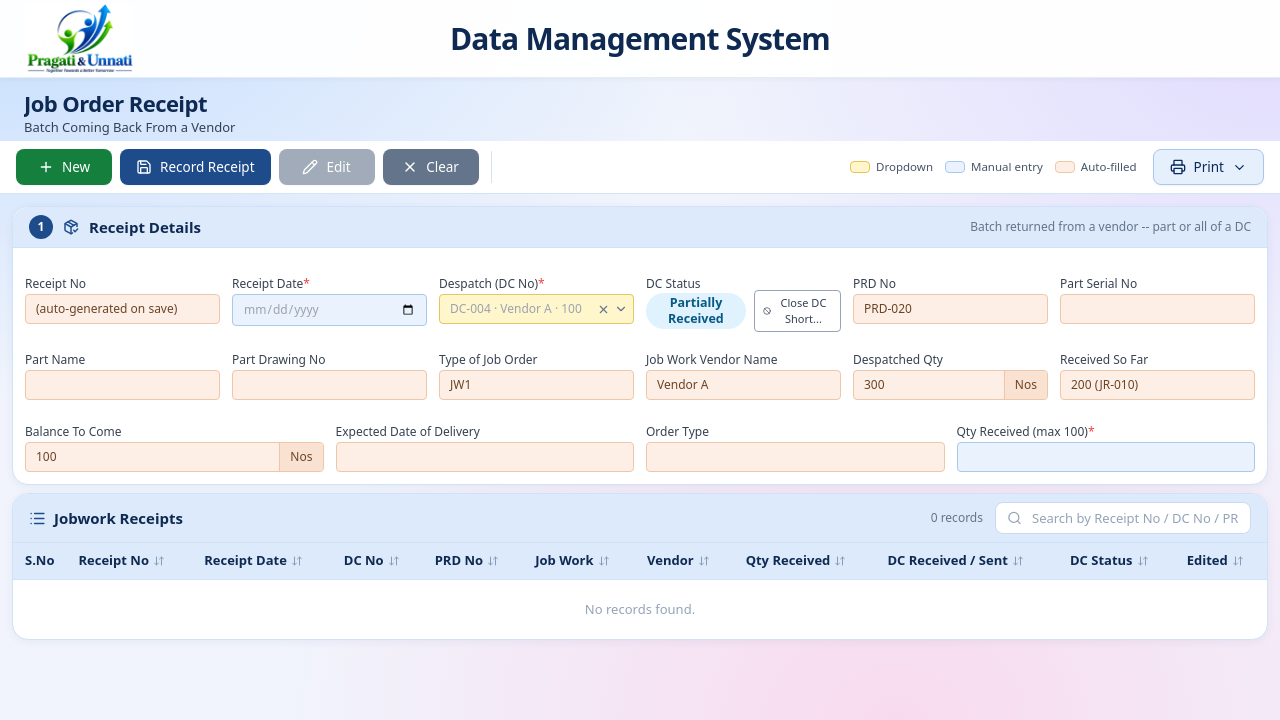
Scenario: Job Work Receipt -- Close DC Short button › reason required; confirm closes the DC short
expect the text "Partially Received" is shown: met, box left=646, top=293, right=746, bottom=329
Click the button "Close DC Short...": (797, 311) left=754, top=290, right=841, bottom=332
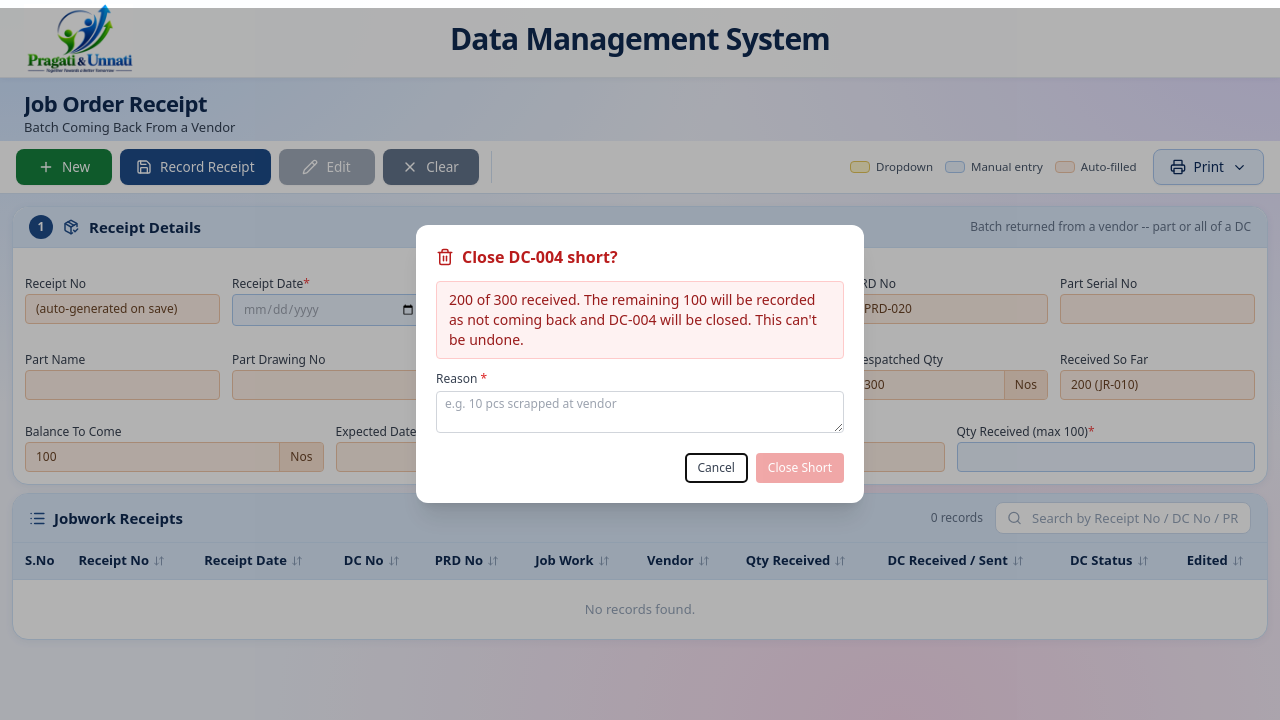
expect the heading "Close DC-004 short?" is shown: met, box left=462, top=245, right=618, bottom=269
expect the dialog shows "The remaining 100 will be recorded as not coming back": met, box left=449, top=290, right=817, bottom=349
expect the button "Close Short" is disabled: met, box left=756, top=453, right=844, bottom=483
In the text box named "Close short reason": (640, 412) left=436, top=391, right=844, bottom=433, type "10 pcs scrapped at vendor"
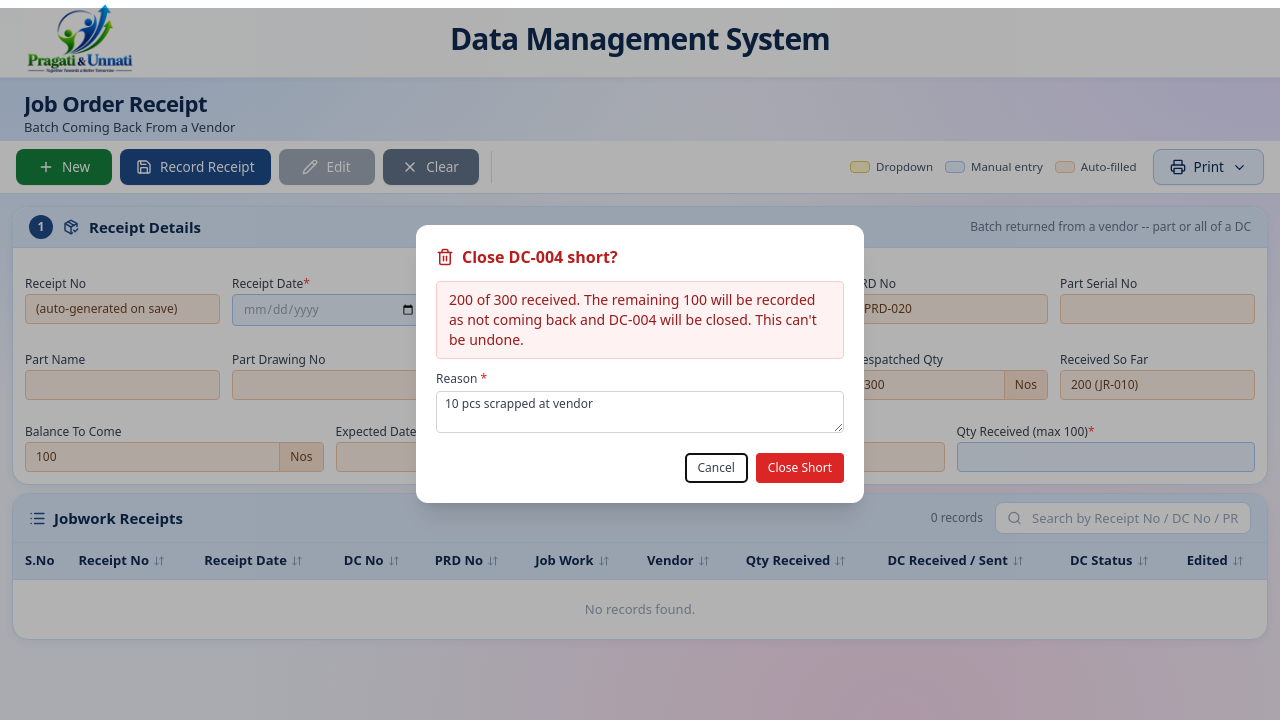
expect the button "Close Short" is enabled: met
Click the button "Close Short": (800, 468) left=756, top=453, right=844, bottom=483
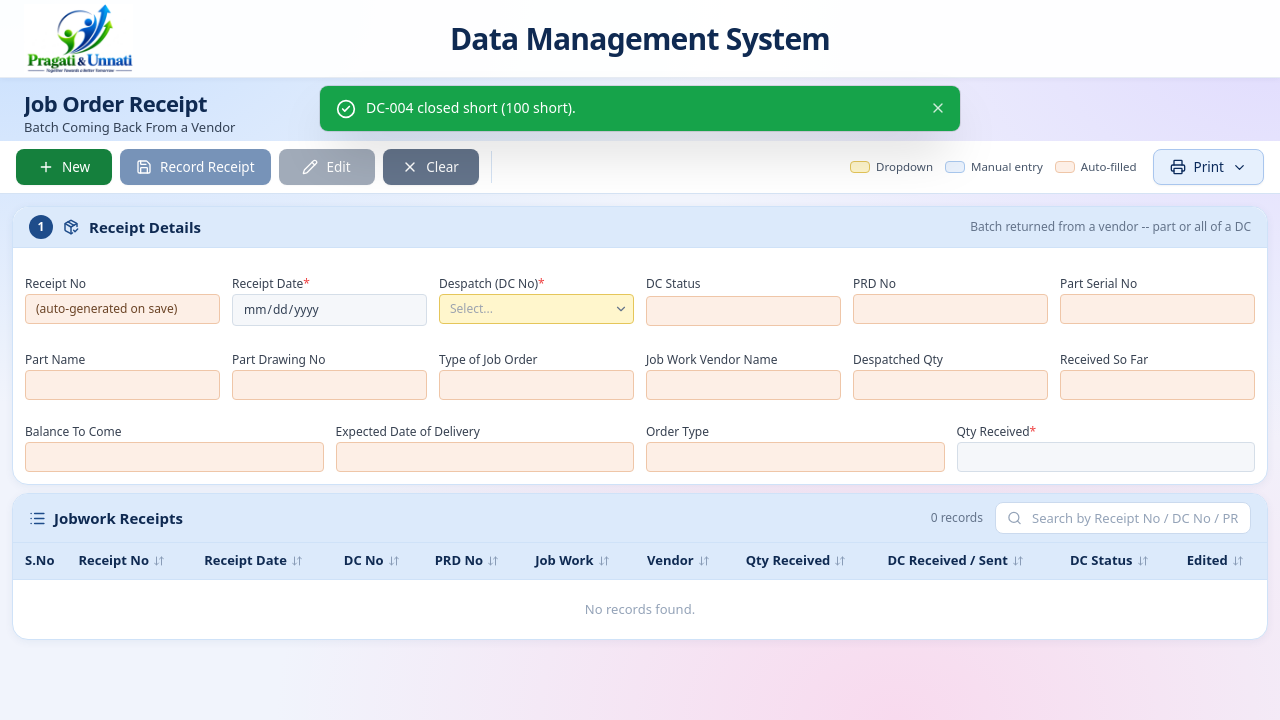
expect the text "DC-004 closed short (100 short)." is shown: met, box left=366, top=98, right=576, bottom=117
